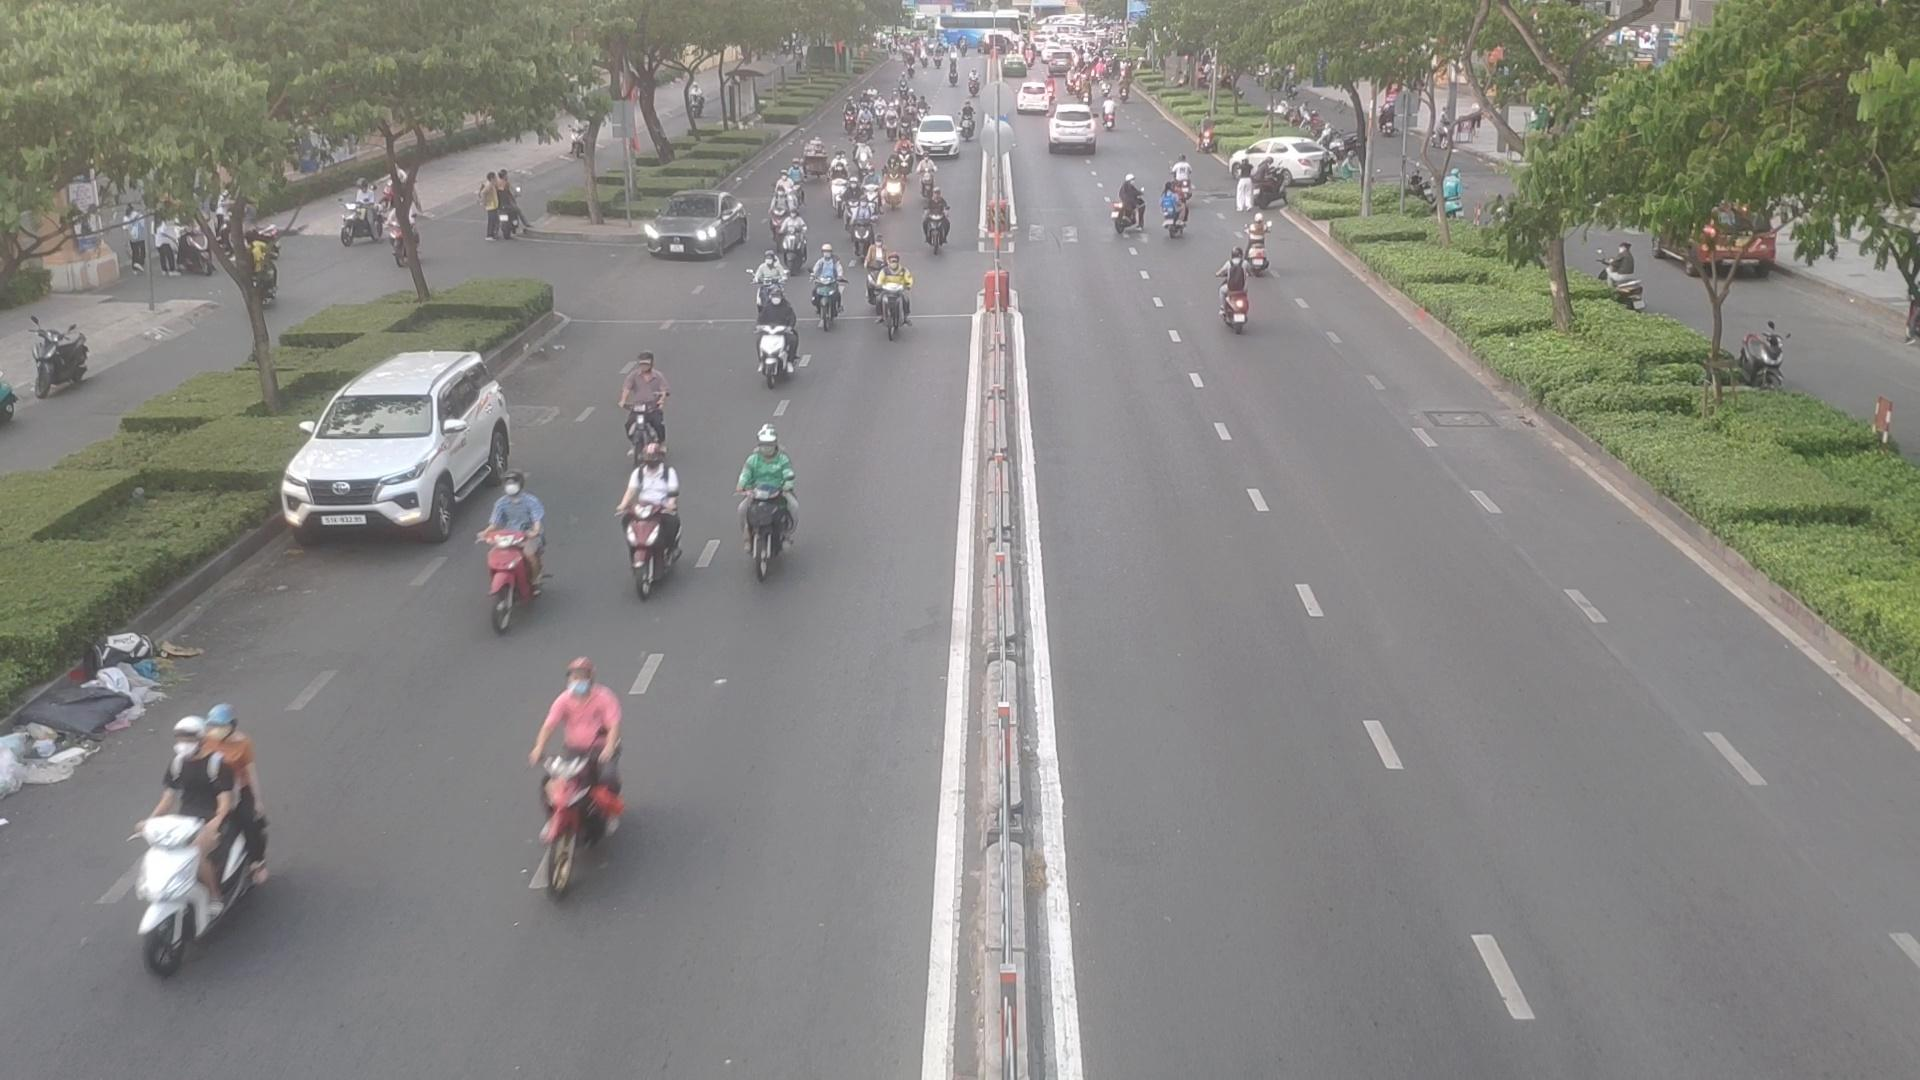car: (277, 347, 518, 541), (637, 193, 749, 261), (1221, 125, 1337, 181), (916, 117, 967, 158)
motorbike: (127, 691, 258, 976), (520, 663, 629, 862), (476, 463, 545, 626), (735, 410, 795, 545), (626, 442, 676, 583), (618, 339, 674, 463), (752, 287, 796, 382), (812, 243, 843, 326), (881, 255, 909, 345), (746, 252, 779, 319), (1108, 177, 1143, 233), (1218, 244, 1244, 322), (1163, 175, 1191, 236), (862, 237, 887, 301), (1245, 208, 1269, 273), (923, 193, 949, 251), (851, 199, 876, 258), (1168, 149, 1192, 203), (765, 186, 785, 239), (843, 182, 862, 231), (789, 210, 806, 264), (884, 158, 898, 208), (894, 138, 913, 177), (865, 173, 880, 216), (855, 142, 872, 175), (920, 154, 935, 193), (831, 161, 843, 204)
